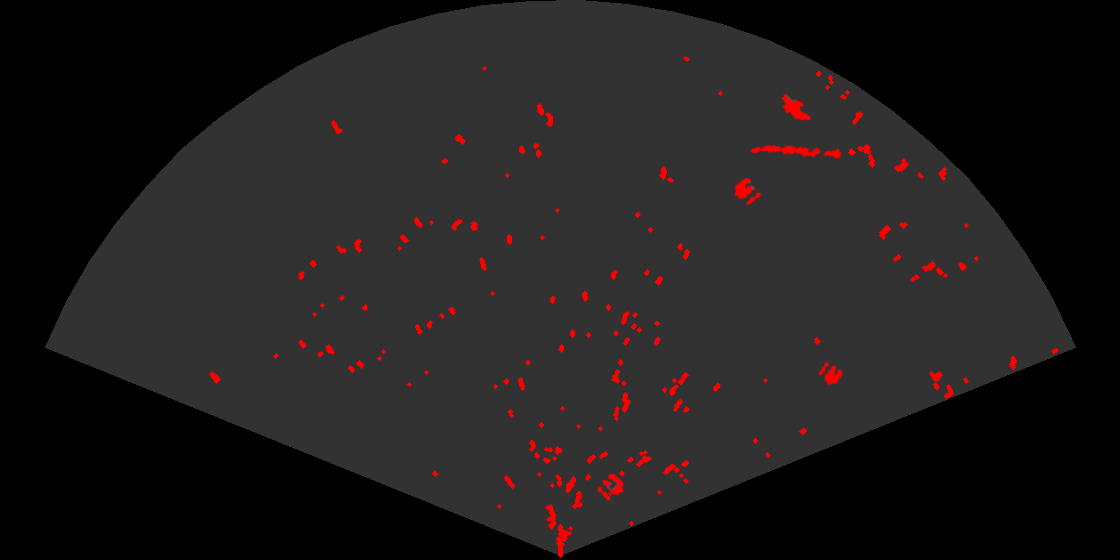AUV: (780, 92, 813, 122)
ball: (733, 176, 763, 207), (596, 472, 625, 502), (817, 360, 845, 387)
chain: (749, 143, 844, 161)
